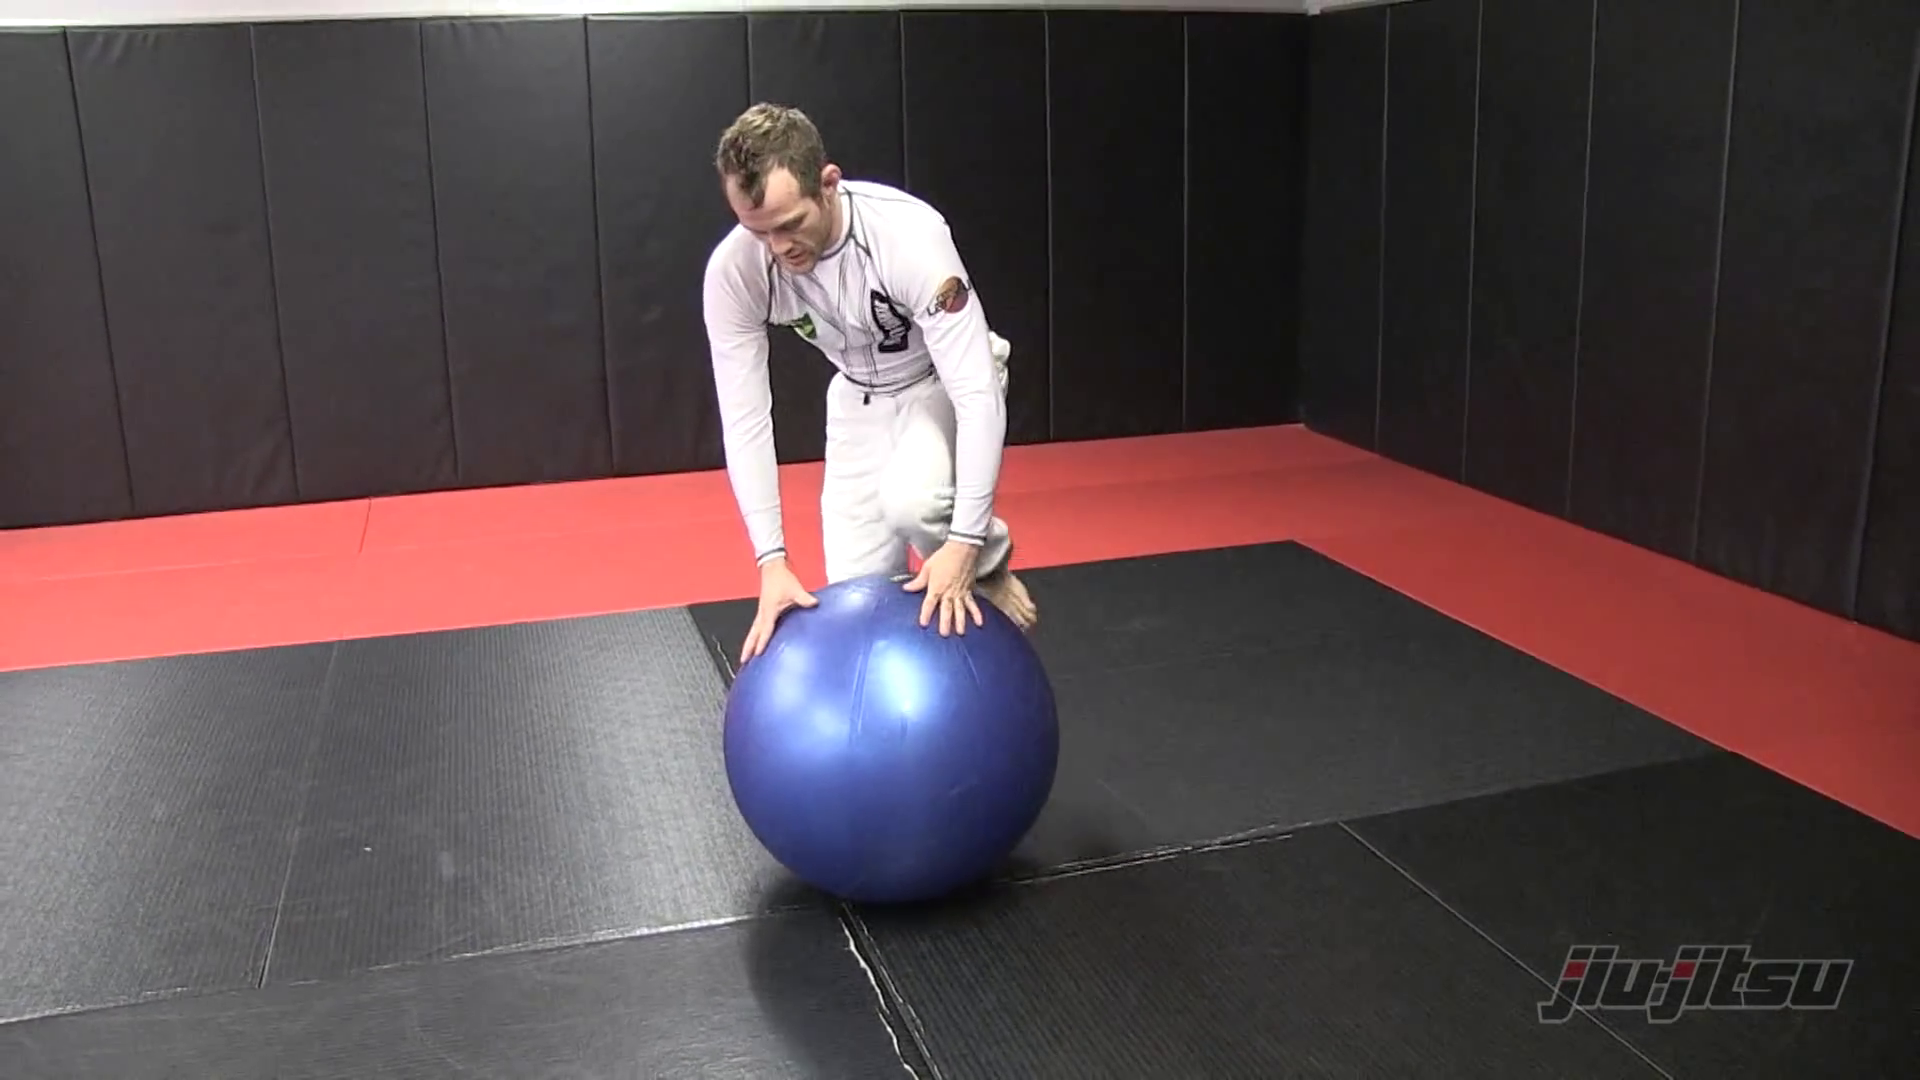yogaball: (716, 574, 1073, 924)
